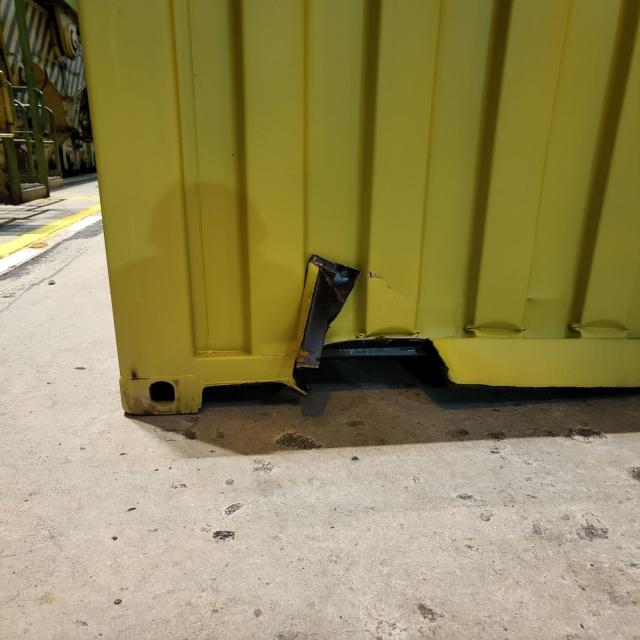dent: (467, 318, 539, 349), (566, 316, 640, 343)
